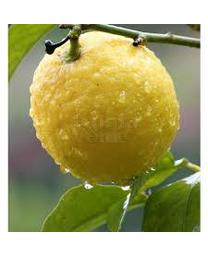lemon: (29, 31, 180, 185)
